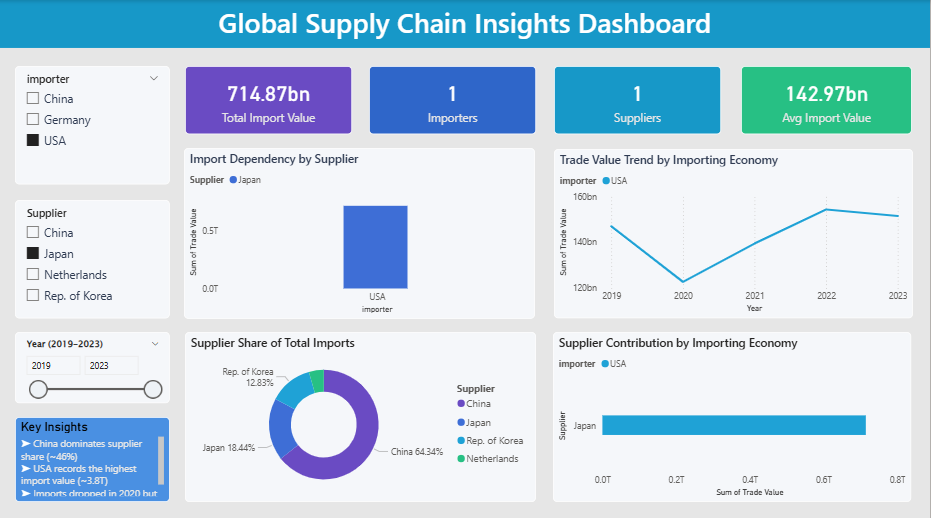

The page's visual inventory and layout, read from the dashboard file:
{"tool":"powerbi","page":{"name":"Page 1","canvas":[1280,720],"ordinal":0},"visuals":[{"type":"clusteredBarChart","title":"Supplier Contribution by Importing Economy","fields":{"Category":["Sheet1.Supplier"],"Y":["Sum(Sheet1.Trade Value)"],"Series":["Sheet1.importer"]},"box":[761.1,456.9,492.7,234],"z":0},{"type":"lineChart","title":"Trade Value Trend by Importing Economy","fields":{"Category":["Sheet1.Year"],"Y":["Sum(Sheet1.Trade Value)"],"Series":["Sheet1.importer"]},"box":[762.5,205.1,494.1,232.6],"z":1000},{"type":"donutChart","title":"Supplier Share of Total Imports","fields":{"Category":["Sheet1.Supplier"],"Y":["Sum(Sheet1.Trade Value)"]},"box":[254.6,456.9,483.1,234],"z":2000},{"type":"lineStackedColumnComboChart","title":"Import Dependency by Supplier","fields":{"Category":["Sheet1.importer"],"Y":["Sum(Sheet1.Trade Value)"],"Series":["Sheet1.Supplier"]},"box":[253.2,203.7,483.1,235.4],"z":3000},{"type":"slicer","fields":{"Values":["Sheet1.importer"]},"box":[21.2,91.2,212.5,162.5],"z":4000},{"type":"slicer","fields":{"Values":["Sheet1.Supplier"]},"box":[21.2,275,212.5,162.5],"z":5000},{"type":"slicer","fields":{"Values":["Sheet1.Year"]},"box":[20.6,456.9,213.3,97.7],"z":6000},{"type":"card","fields":{"Values":["Sum(Sheet1.Trade Value)"]},"box":[254.6,90.8,229.8,93.6],"z":7000},{"type":"card","fields":{"Values":["Sheet1.Avg Import Value"]},"box":[1019.9,90.8,235.4,93.6],"z":8000},{"type":"card","fields":{"Values":["Sheet1.Suppliers"]},"box":[762.5,90.8,229.8,93.6],"z":9000},{"type":"card","fields":{"Values":["Sheet1.Importers"]},"box":[507.9,90.8,229.8,93.6],"z":10000},{"type":"textbox","box":[0,0,1280,66.1],"z":11000},{"type":"textbox","title":"Key Insights","box":[20.6,573.9,213.3,117],"z":12000}]}

Visuals, with their boxes in screenshot pixels (x1, y1, x2, y2), scaled from the page's 1280x720 canvas onto the 931x518 screenshot:
"Supplier Contribution by Importing Economy" clusteredBarChart: box(554, 329, 912, 497)
"Trade Value Trend by Importing Economy" lineChart: box(555, 148, 914, 315)
"Supplier Share of Total Imports" donutChart: box(185, 329, 537, 497)
"Import Dependency by Supplier" lineStackedColumnComboChart: box(184, 147, 536, 316)
slicer - Sheet1.importer: box(15, 66, 170, 183)
slicer - Sheet1.Supplier: box(15, 198, 170, 315)
slicer - Sheet1.Year: box(15, 329, 170, 399)
card - Sum(Sheet1.Trade Value): box(185, 65, 352, 133)
card - Sheet1.Avg Import Value: box(742, 65, 913, 133)
card - Sheet1.Suppliers: box(555, 65, 722, 133)
card - Sheet1.Importers: box(369, 65, 537, 133)
textbox: box(0, 0, 930, 48)
"Key Insights" textbox: box(15, 413, 170, 497)
